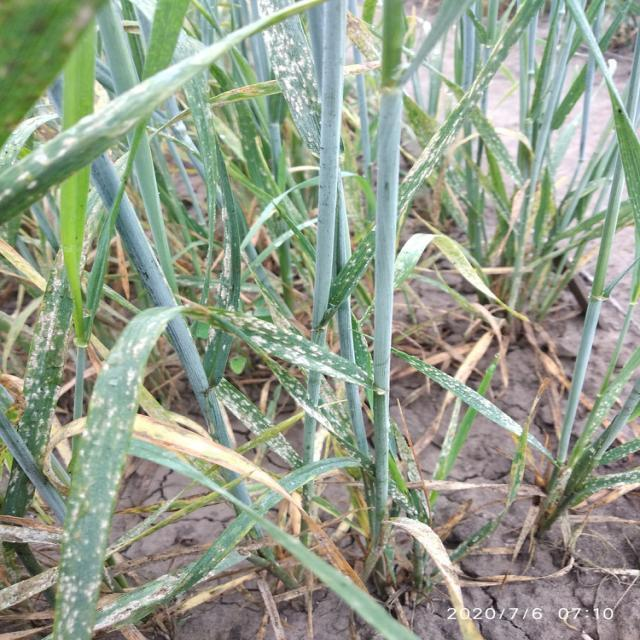Powdery Mildew: (38, 0, 440, 628)
